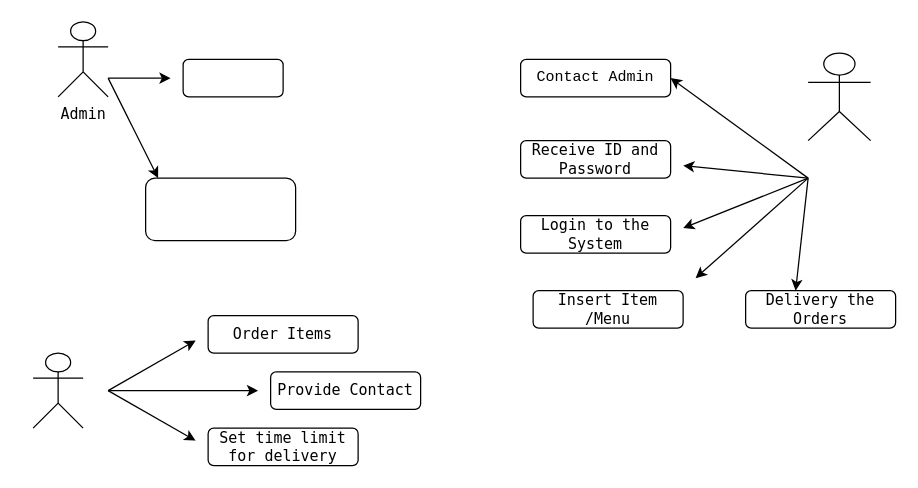
This 918x488 diagram has some shape labels left out. Each missing label, with the centre of its shape:
"Customer" goes at pixel 57 390.
"Login" goes at pixel 232 77.
"Provide ID and Password to Restaurant" goes at pixel 220 209.
"Resturant" goes at pixel 839 96.
